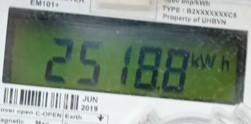.: (190, 51, 233, 75)
0: (155, 86, 162, 91)
2: (119, 46, 133, 88)
6: (42, 36, 76, 82), (79, 43, 103, 86)
9: (161, 47, 189, 93), (135, 45, 162, 90)
